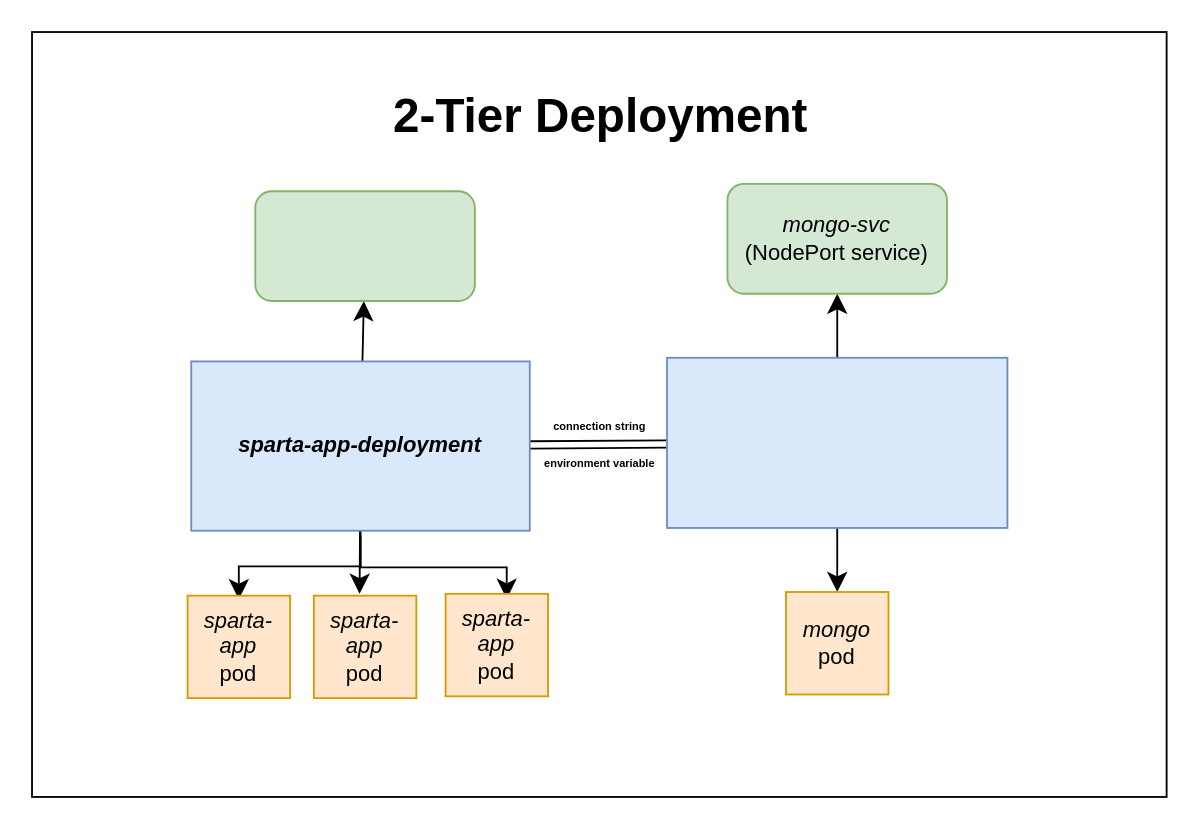
The diagram is 1199 pixels wide and 829 high, and some of its shapes have lost their labels. The shapes that lost their labels are listed below. From the top down, each one's box as (x1, y1, x2, y2) in pixels, then its label:
(253, 189, 475, 301): sparta-svc (NodePort service)
(665, 356, 1007, 528): mongo-deployment
